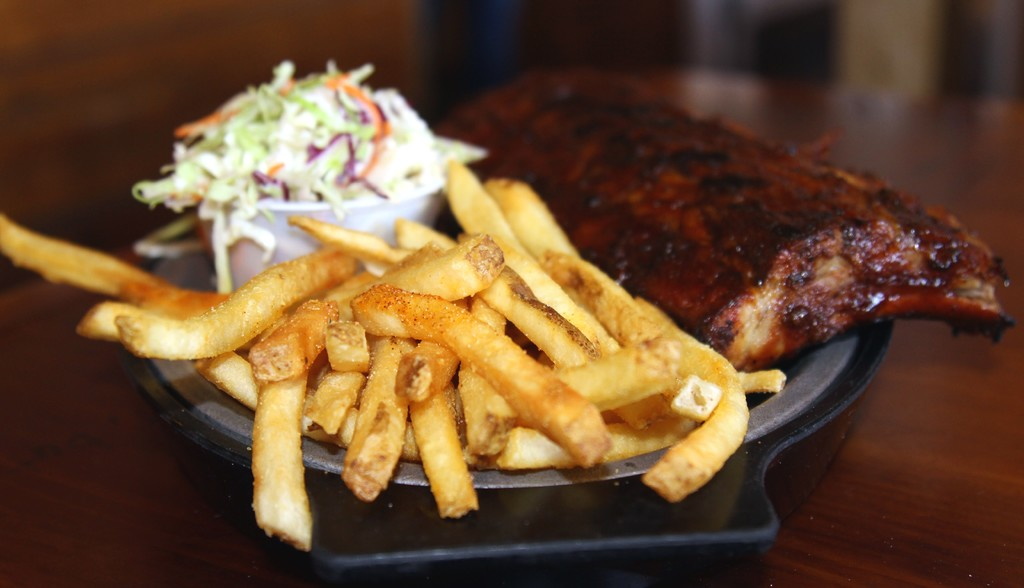French fries: (350, 283, 607, 476), (449, 159, 618, 350), (116, 244, 356, 355), (643, 296, 744, 519), (0, 204, 191, 293), (245, 349, 317, 564), (335, 333, 416, 510), (477, 261, 596, 364), (497, 424, 700, 479), (368, 231, 510, 309), (407, 375, 476, 525), (241, 290, 346, 388), (547, 335, 682, 408), (487, 174, 586, 271), (295, 360, 376, 459), (277, 213, 408, 266), (458, 356, 519, 465), (602, 413, 697, 460), (188, 347, 264, 404), (320, 308, 372, 380), (393, 217, 458, 260), (78, 306, 151, 339), (737, 365, 787, 392)
